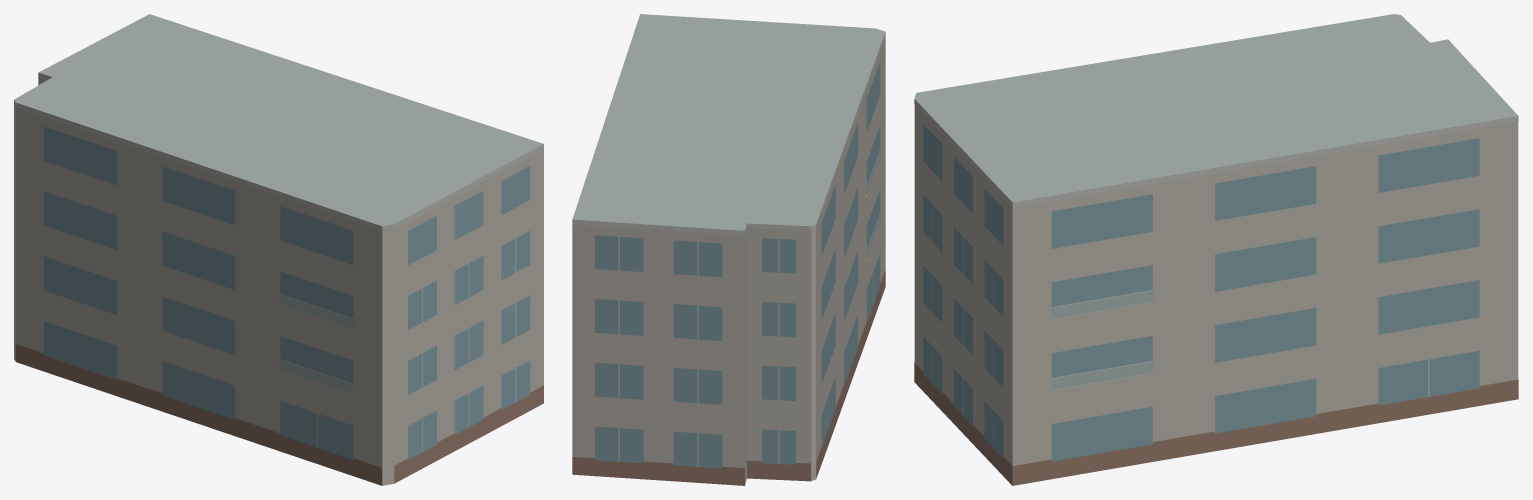
The model's file is survey-upis-32605851.glb.
3 renders of one model, left to right at view 1: azimuth 30°, elevation 25°; view 2: azimuth 150°, elevation 25°; view 3: azimuth 270°, elevation 25°, orthographic. The views are drawn at different scales.
Visible parts, largest first — view 1: survey-upis-32605851.tmp; view 2: survey-upis-32605851.tmp; view 3: survey-upis-32605851.tmp.
Part boxes in pixels (x1,y1,x2,y2): survey-upis-32605851.tmp: [14, 14, 543, 485]; survey-upis-32605851.tmp: [572, 14, 885, 485]; survey-upis-32605851.tmp: [914, 14, 1518, 485].
Size of the model in its own units: 18.19 by 12.75 by 24.63.
